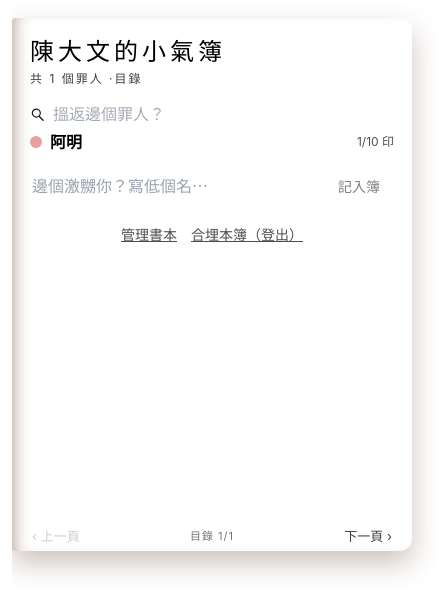
Scenario: 管理書本 on the 目錄 footer jumps straight to 書末
The image size is (443, 594).
Click the button "管理書本" at (149, 234), box [121, 224, 177, 244]
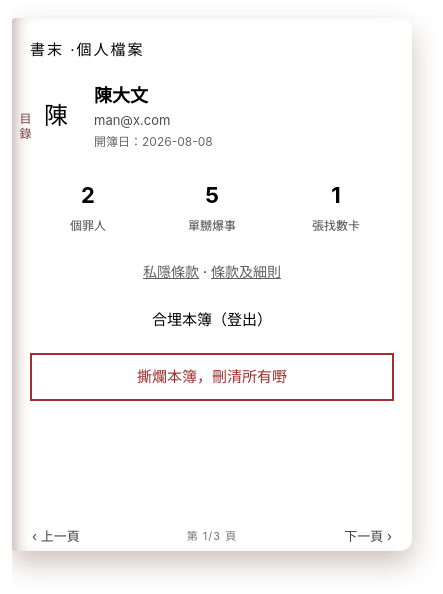
Now the text "書末 ·個人檔案" is shown, box [30, 40, 144, 59]
